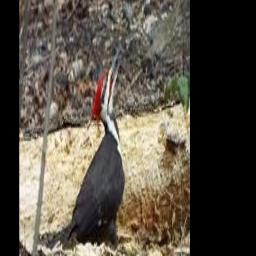Woodpecker: (46, 50, 125, 249)
